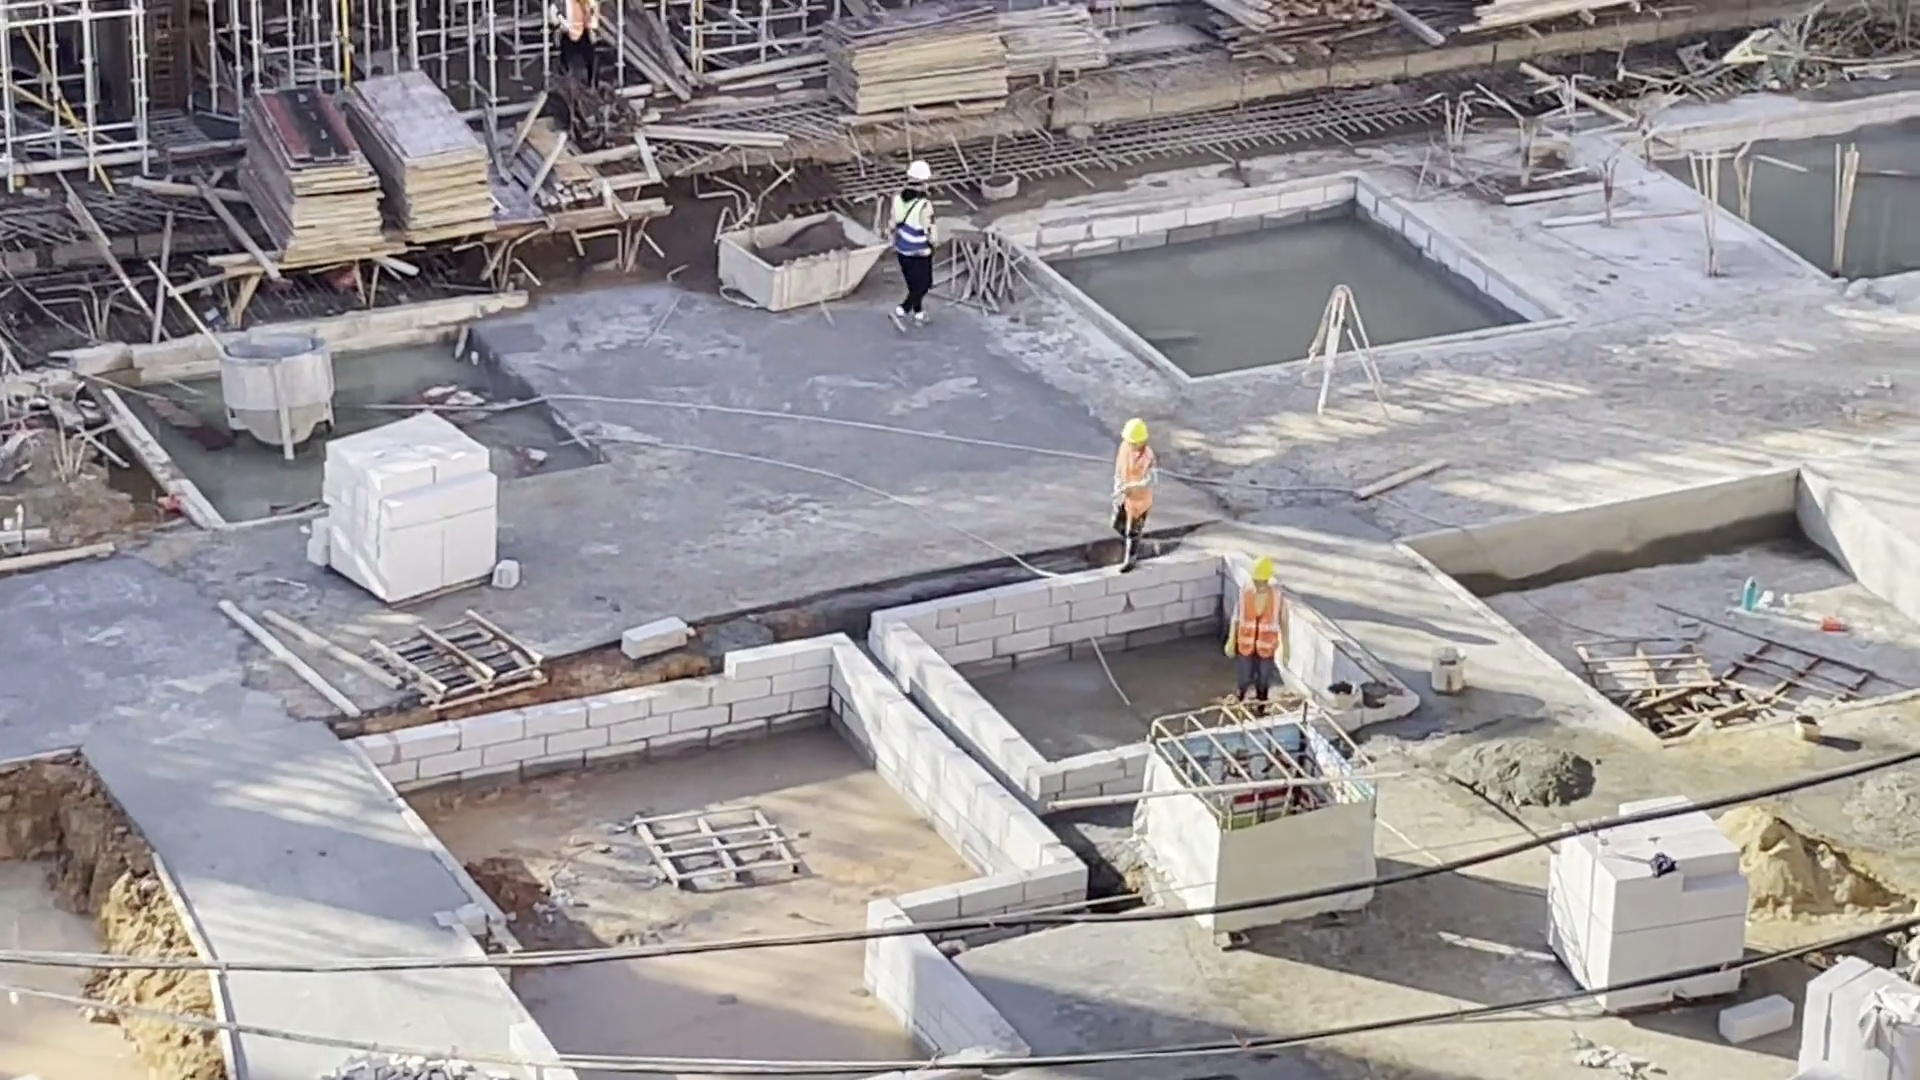board: (232, 87, 393, 268), (352, 65, 501, 248), (812, 11, 1021, 128)
brick: (309, 405, 499, 598), (1545, 856, 1752, 972), (1783, 957, 1920, 1079)
helmet: (1119, 419, 1152, 447), (1249, 556, 1276, 585), (903, 159, 933, 185)
hopper: (706, 205, 893, 316), (210, 331, 336, 460)
person: (1222, 556, 1290, 714), (887, 159, 941, 339), (1111, 416, 1156, 578), (550, 1, 607, 85)
vest: (888, 191, 938, 264), (1239, 584, 1283, 657), (1115, 447, 1154, 517), (564, 4, 601, 42)
